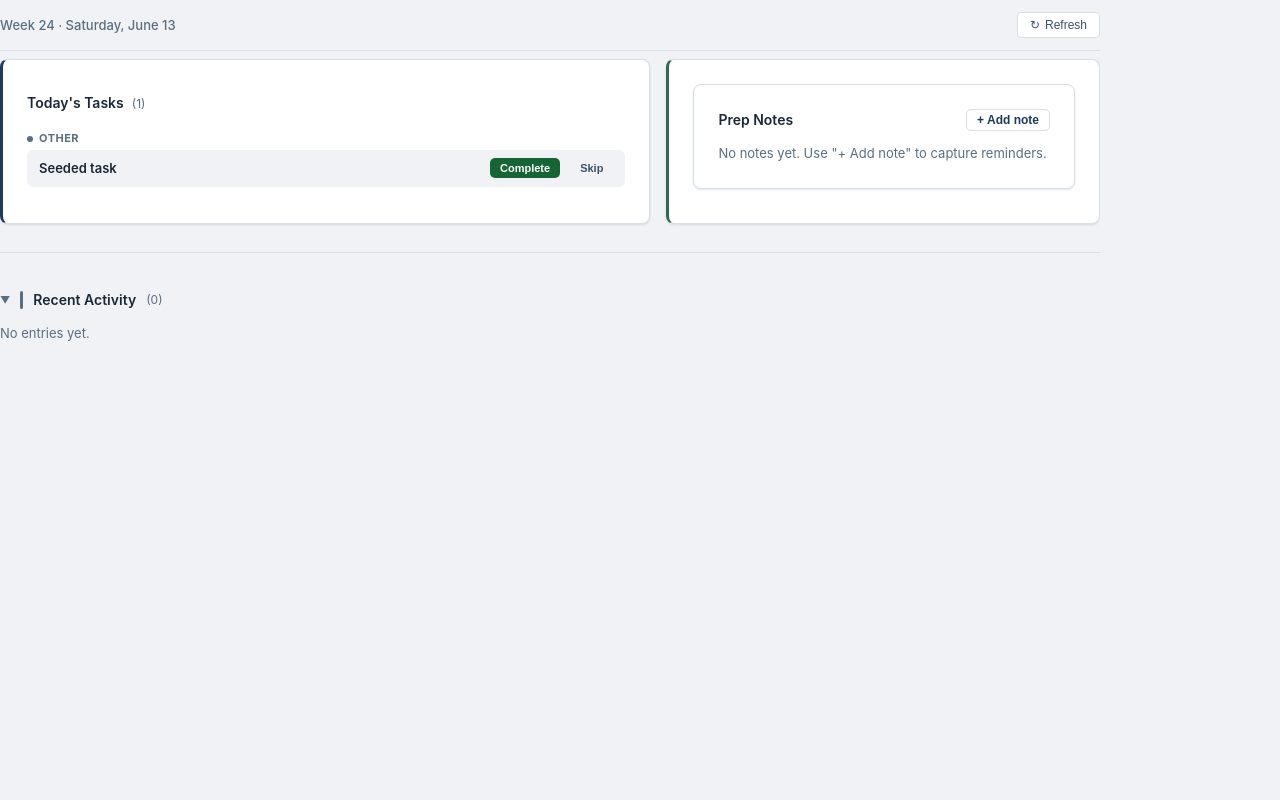
Test: DashboardView — task modal dirty-state close guard (Task 9.14) › clean backdrop click closes the modal
What coordinates should you click on to do the following:
click the button with aria-label "edit seeded task"
I would click on:
 (78, 168)
Its box is [27,150,625,187].
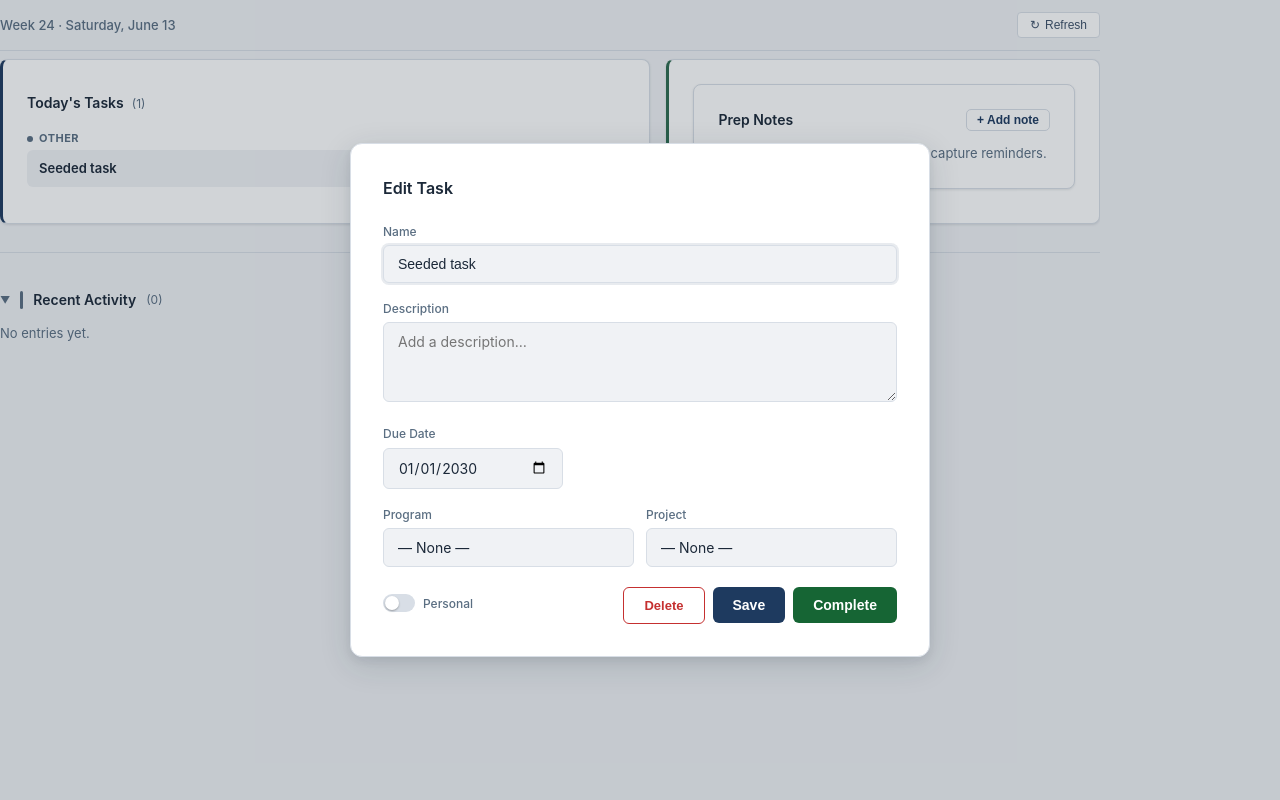
expect the dialog "Edit Task" is shown: met
What coordinates should you click on to do the following:
click the dialog "Edit Task"
I would click on:
 (77, 400)
Its box is [0,0,1279,799].
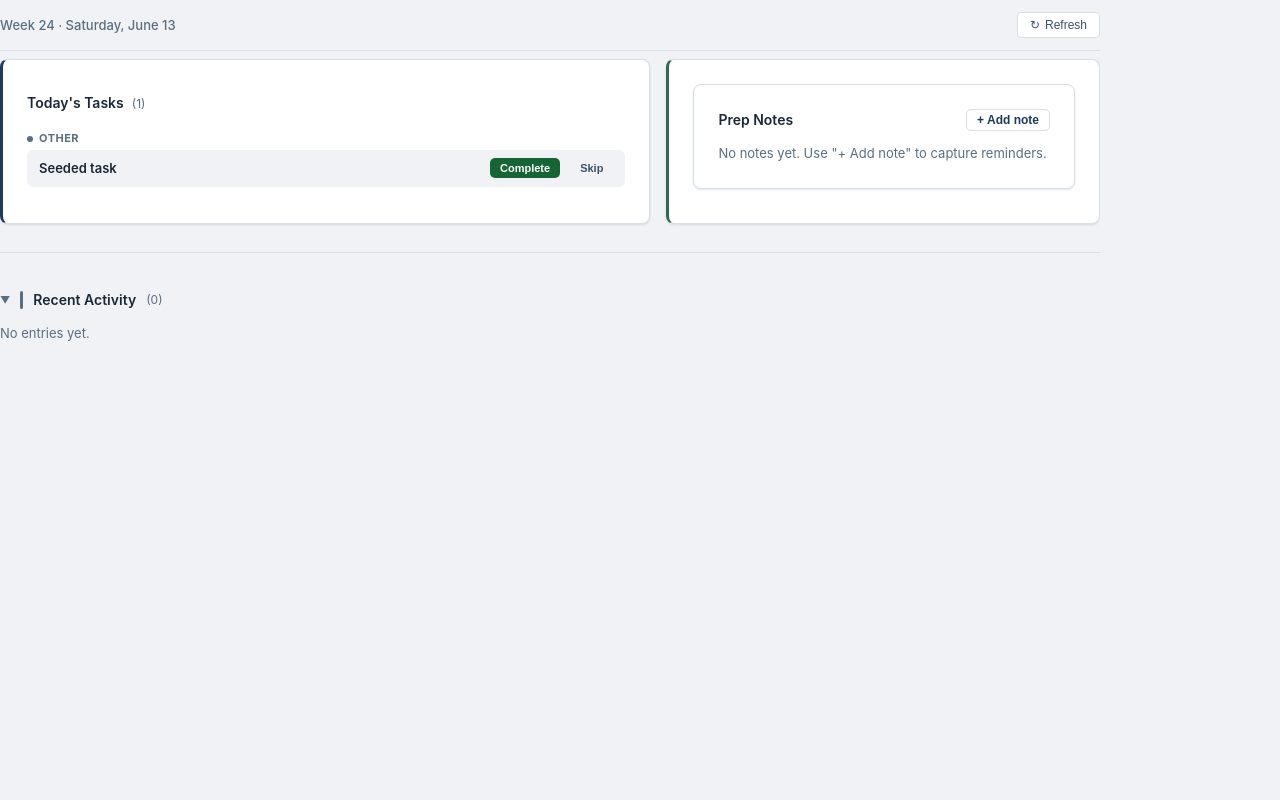
expect the heading "Edit Task" is gone: met
